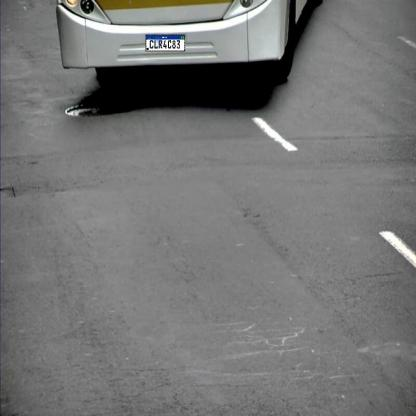PlacaM: (146, 35, 185, 51)
